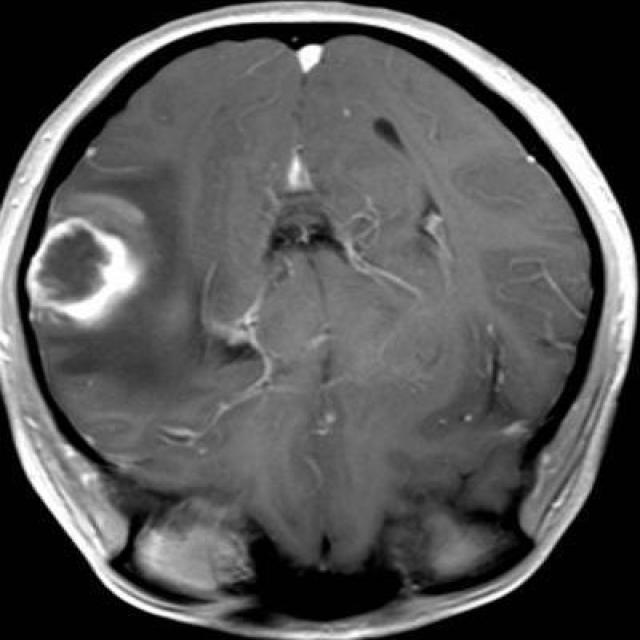Tumor-Cell: (11, 210, 124, 318)
